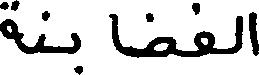X: (145, 8, 174, 61), (195, 0, 212, 61), (0, 0, 13, 43), (249, 7, 258, 60), (35, 8, 42, 57), (112, 9, 119, 56), (72, 28, 78, 74), (236, 11, 241, 57)
